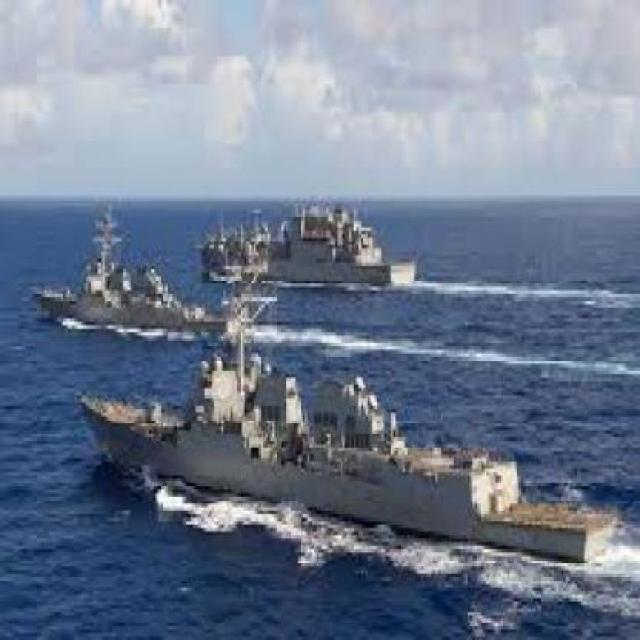warship2: (73, 301, 611, 603), (184, 159, 423, 294), (43, 210, 246, 347)
